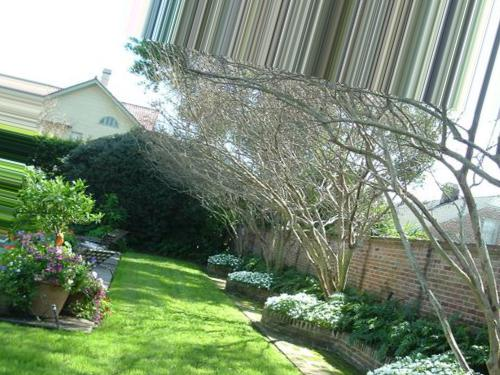patch: (295, 349, 306, 356)
